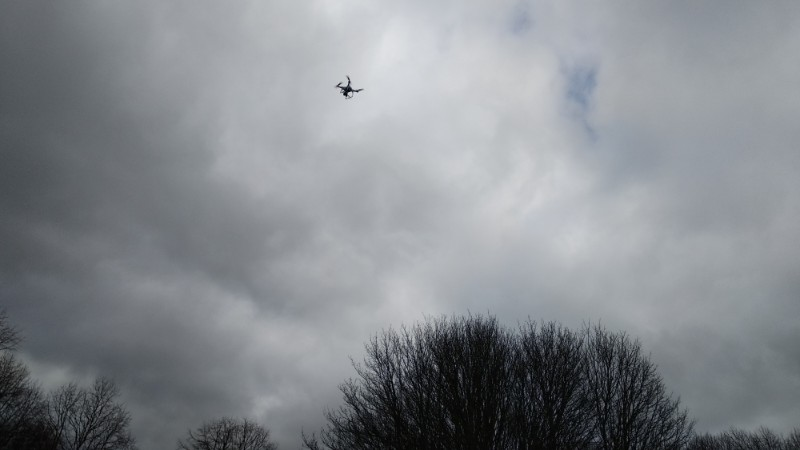drone: (336, 75, 363, 100)
